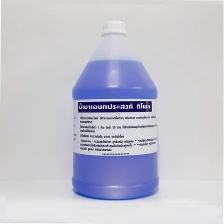cleaning_solution: (70, 17, 160, 202)
